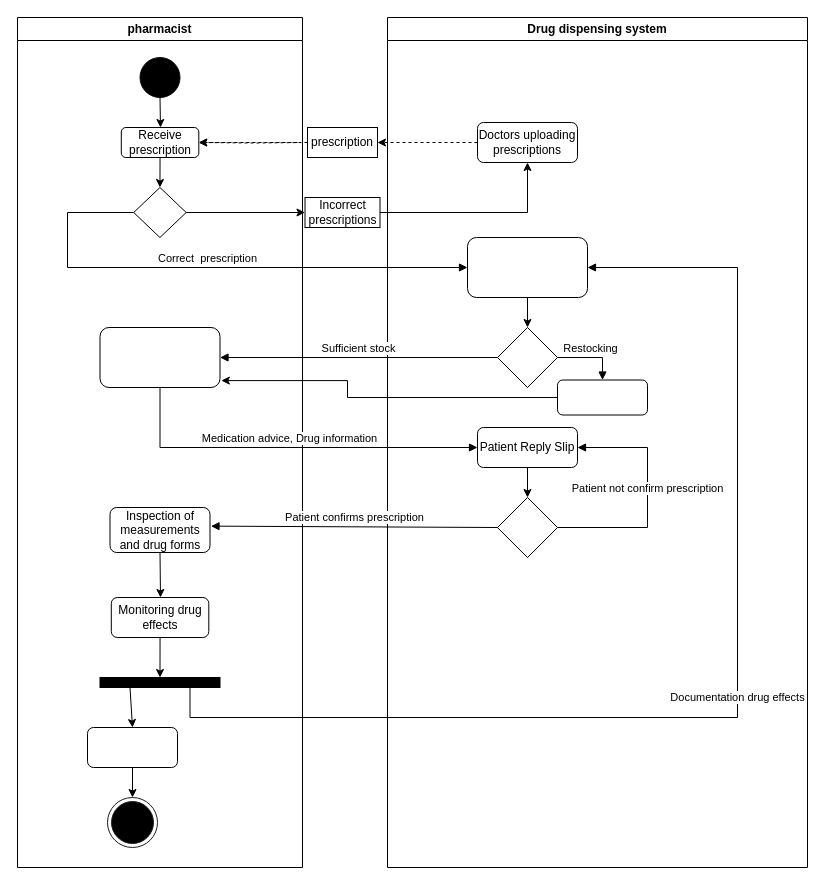
Image size: 825x885. Some labels were removed from this diagram. Here are the shapes that lost their labels. From the top down, the centre of each, then its label:
At point 527,267: "Drug warehouse".
At point 159,357: "Dispensing drugs".
At point 602,397: "Replenishment of drug stocks".
At point 132,747: "Guidance taking medication".
